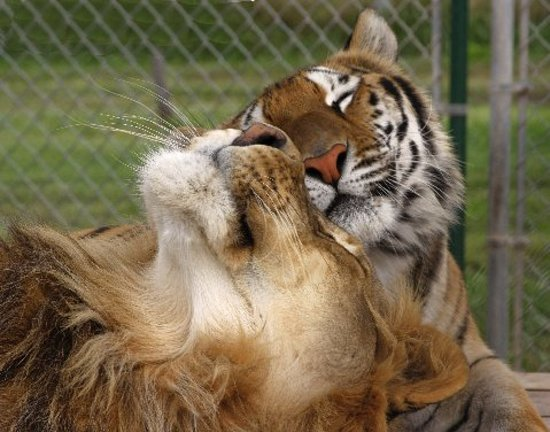lion: (2, 123, 470, 432)
tiger: (223, 10, 543, 431)
